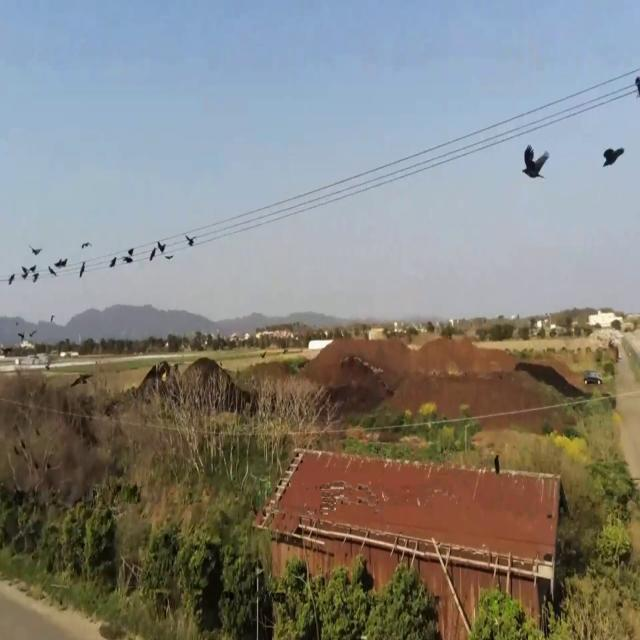bird: (521, 136, 549, 188), (602, 136, 624, 175), (49, 253, 66, 282), (156, 237, 169, 262), (185, 228, 196, 252), (154, 242, 164, 268), (22, 260, 32, 284), (634, 67, 640, 103), (149, 242, 157, 265), (79, 256, 86, 280), (8, 268, 15, 290), (110, 251, 117, 271), (495, 451, 499, 478)
